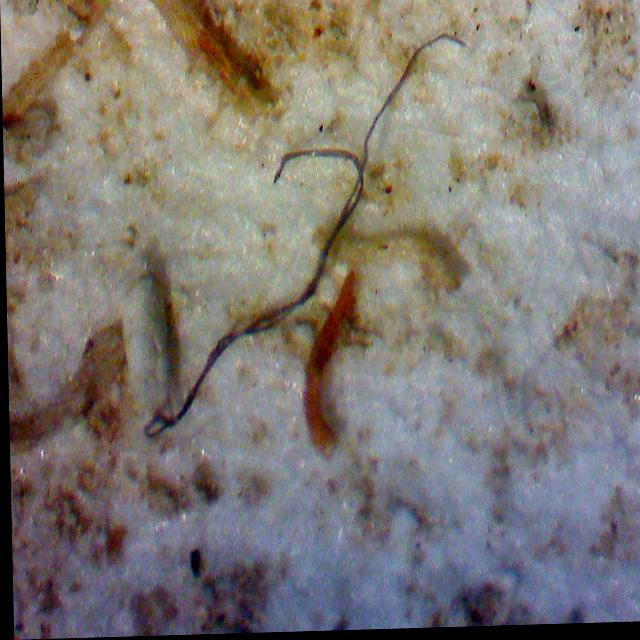microplastic: (140, 36, 467, 439)
